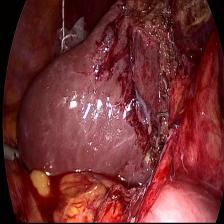Irrigator: (1, 142, 22, 167)
Specimen Bag: (56, 7, 88, 56)
